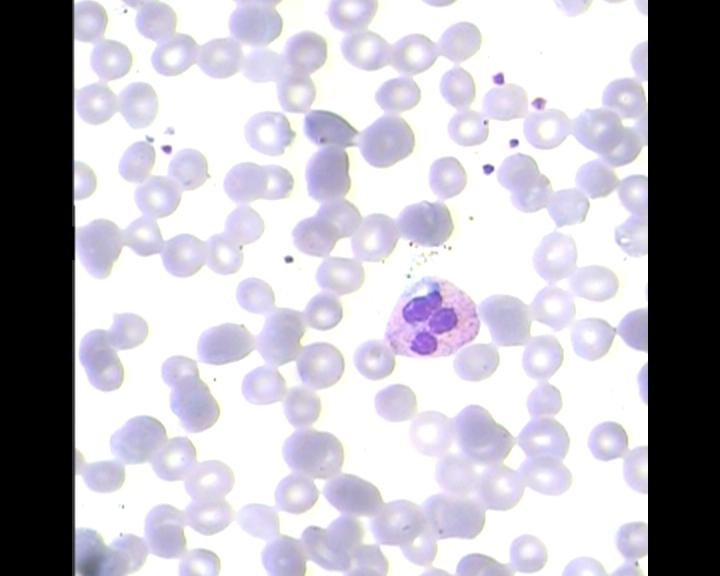neut: (378, 278, 485, 362)
